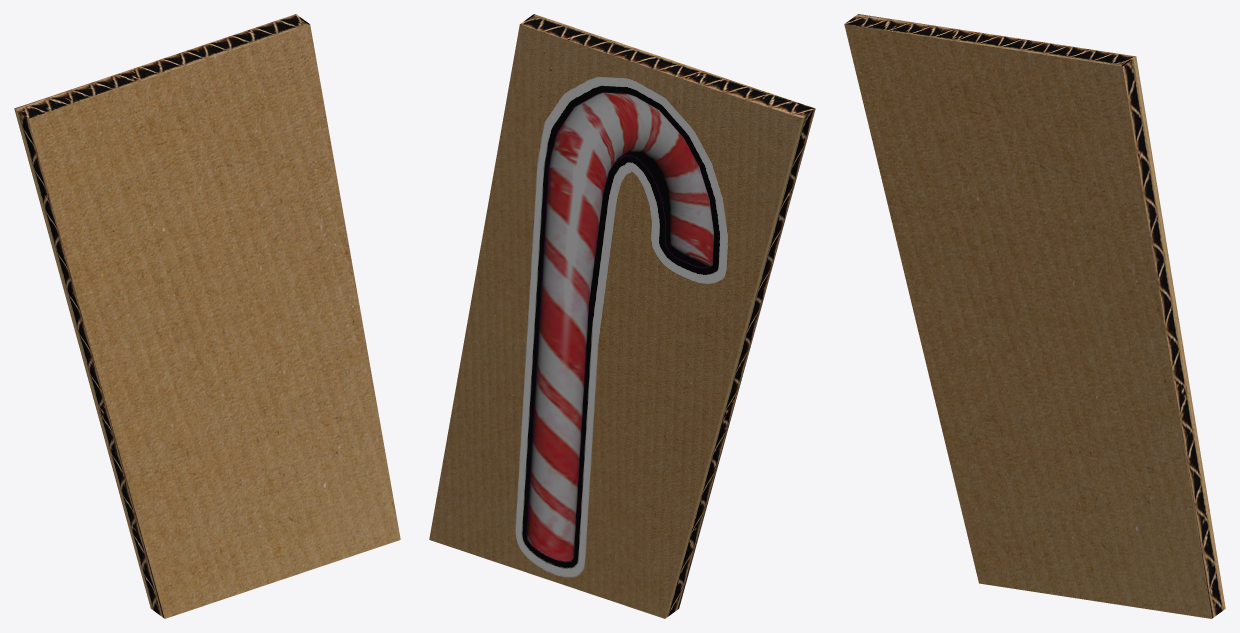
File: Cardboard-Candy.FBX
3 views of the same model, side by side, from view 1: azimuth 30°, elevation 25°; view 2: azimuth 150°, elevation 25°; view 3: azimuth 330°, elevation 25° (orthographic).
Parts seen in each view (by area): view 1: Box001; view 2: Box001; view 3: Box001.
Boxes of the visible parts, x1,y1,x2,y2 form: Box001: (14, 14, 400, 618); Box001: (429, 14, 815, 618); Box001: (844, 14, 1225, 618).
Size of the model in its own units: 73.86 by 106 by 4.85.
Materials: 1 (1 with a texture image).
